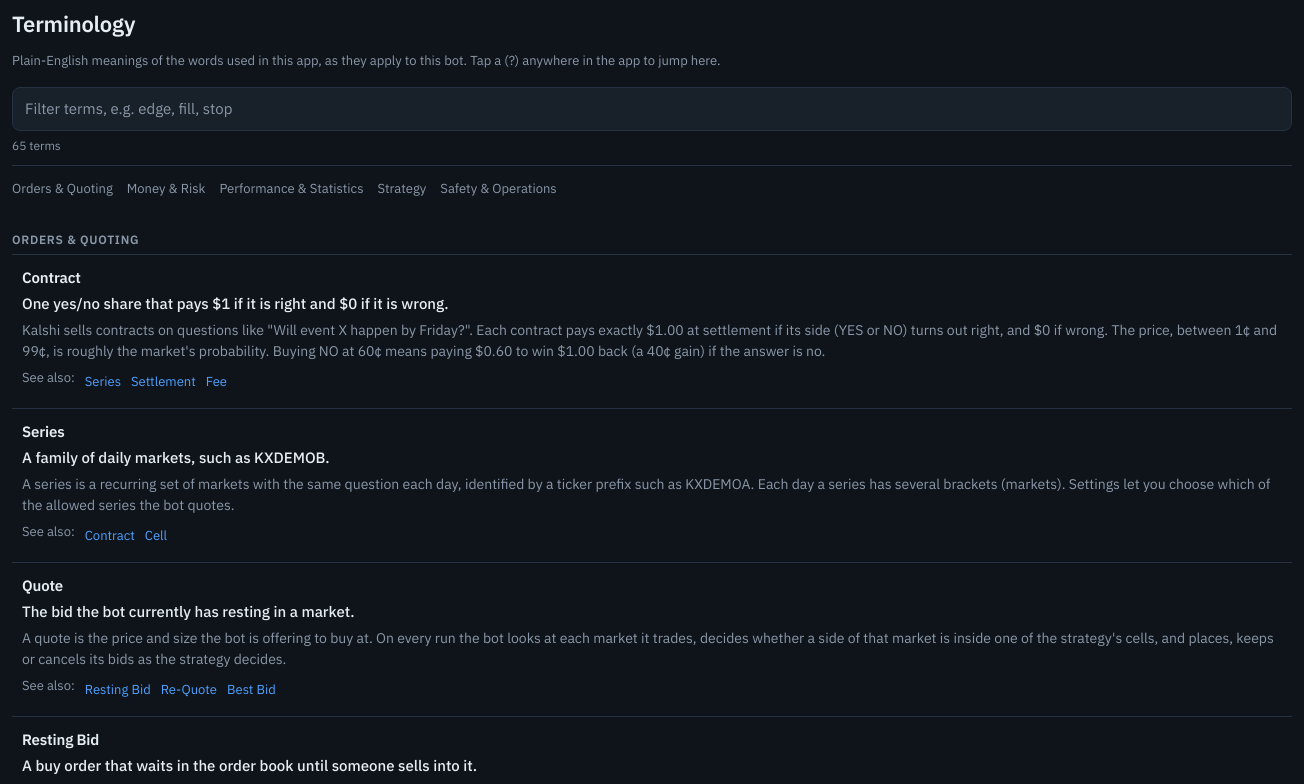
Test: Terminology page › filter narrows the list and shows a no-match message
Type "trade-through" into the search field labelled "Filter terms" at (652, 109), box [12,87,1292,131]
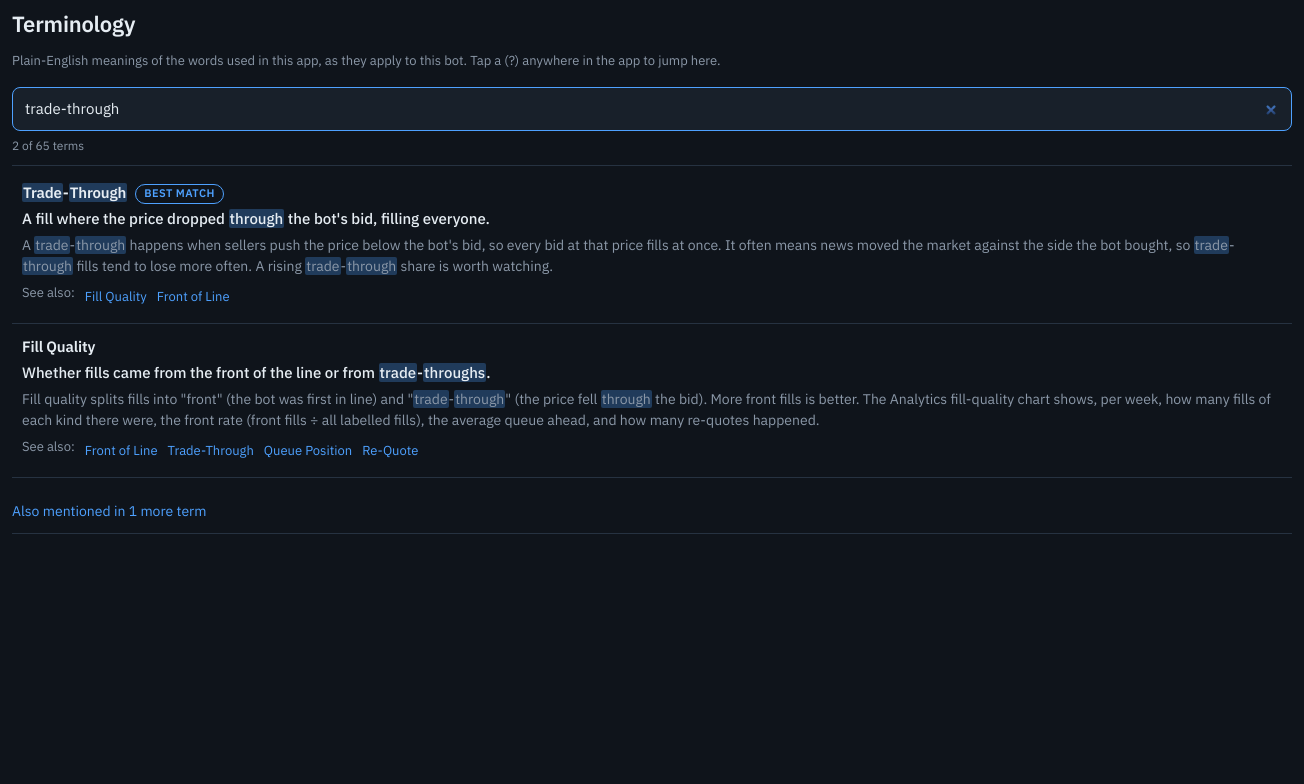
Expected: the list item with id "trade-through" is shown, [12,170,1292,324]
Replace the text in the search field named "Filter terms" with "zzzqqq" at (652, 109), box [12,87,1292,131]
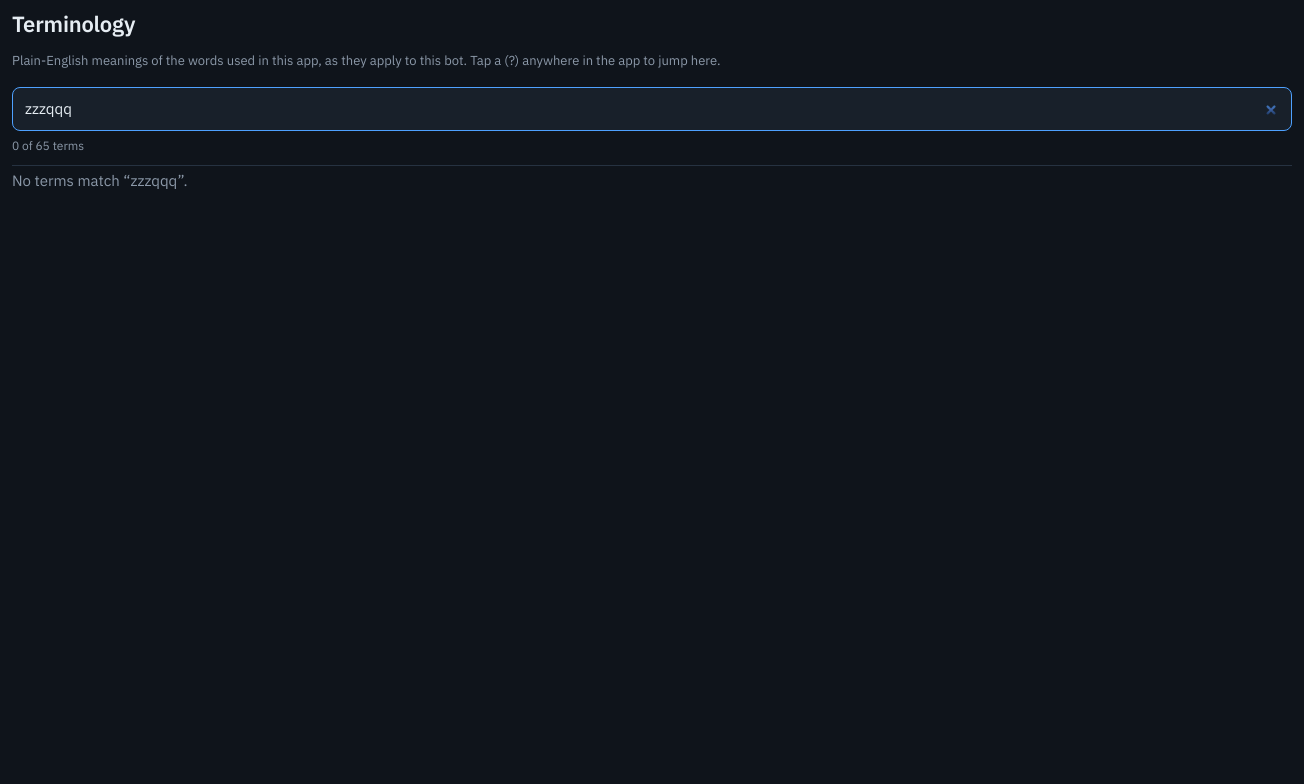
Expected: no list items with class "term" are shown
Expected: the text "No terms match “zzzqqq”." is shown, [12,171,188,190]
